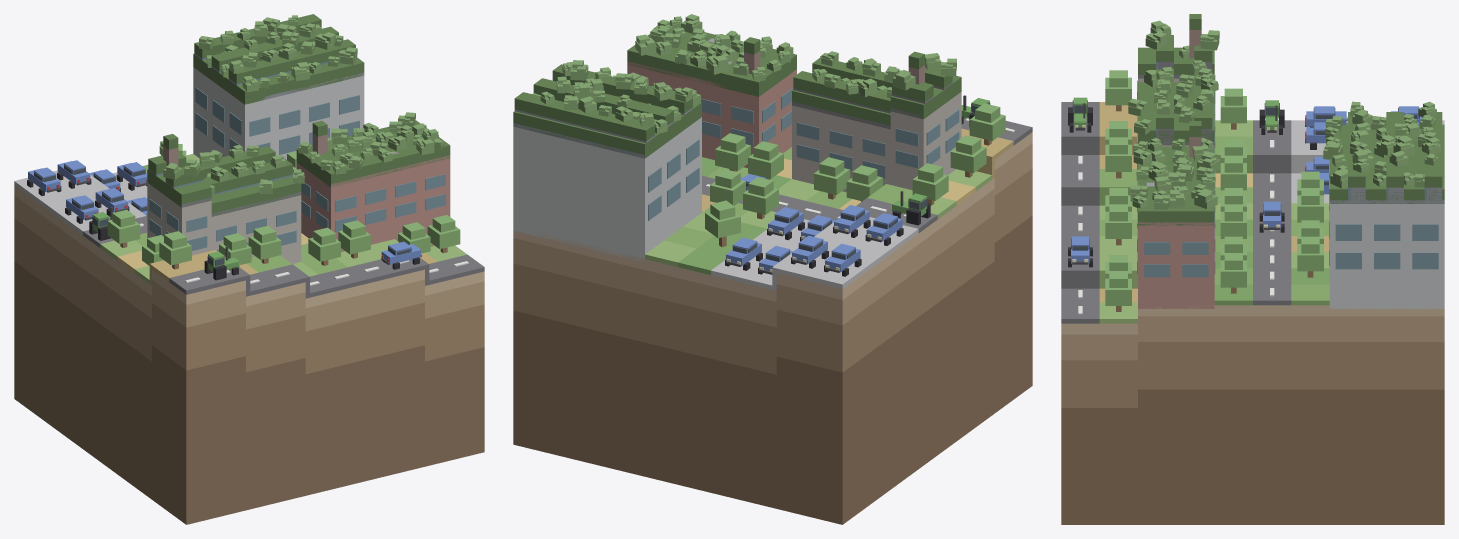
Rendered from block_13_greenroof_45.glb.
3 views of the same model, side by side, from view 1: azimuth 30°, elevation 25°; view 2: azimuth 150°, elevation 25°; view 3: azimuth 270°, elevation 25° (orthographic). The views are drawn at different scales.
Parts seen in each view (by area): view 1: Patch_LowerLeft_b13_GR, Factories_LowerLeft_b13_GR, GR_Roof_Factories_LowerLeft_b13_GR, Roads_LowerLeft_b13_GR, Ground_LowerLeft_b13_GR, Parking_LowerLeft_b13_GR, Asset_Tree_Round.093_GR, Asset_Tree_Round.113_GR, Asset_Tree_Round.114_GR, Asset_Tree_Round.117_GR, Asset_Tree_Round.111_GR, Asset_Tree_Round.115_GR (+9 smaller); view 2: Patch_LowerLeft_b13_GR, Factories_LowerLeft_b13_GR, GR_Roof_Factories_LowerLeft_b13_GR, Ground_LowerLeft_b13_GR, Parking_LowerLeft_b13_GR, Roads_LowerLeft_b13_GR, Asset_Tree_Round.019_GR, Asset_Tree_Round.105_GR, Asset_Tree_Round.111_GR, Asset_Tree_Round.086_GR, Asset_Tree_Round.095_GR, Asset_Tree_Round.093_GR (+11 smaller); view 3: Patch_LowerLeft_b13_GR, Factories_LowerLeft_b13_GR, Roads_LowerLeft_b13_GR, GR_Roof_Factories_LowerLeft_b13_GR, Ground_LowerLeft_b13_GR, Parking_LowerLeft_b13_GR, Asset_Tree_Round.089_GR, Asset_Tree_Round.093_GR, Asset_Tree_Round.111_GR, Asset_Tree_Round.113_GR, Asset_Tree_Round.115_GR, Asset_Tree_Round.099_GR (+19 smaller).
Boxes of the visible parts, bbox=[...] form: Patch_LowerLeft_b13_GR: bbox=[14, 185, 484, 524]; Factories_LowerLeft_b13_GR: bbox=[147, 53, 450, 263]; GR_Roof_Factories_LowerLeft_b13_GR: bbox=[147, 14, 450, 216]; Roads_LowerLeft_b13_GR: bbox=[83, 216, 484, 298]; Ground_LowerLeft_b13_GR: bbox=[100, 154, 467, 285]; Parking_LowerLeft_b13_GR: bbox=[14, 170, 147, 235]; Asset_Tree_Round.093_GR: bbox=[107, 209, 140, 247]; Asset_Tree_Round.113_GR: bbox=[248, 225, 281, 263]; Asset_Tree_Round.114_GR: bbox=[308, 227, 340, 265]; Asset_Tree_Round.117_GR: bbox=[427, 215, 460, 253]; Asset_Tree_Round.111_GR: bbox=[159, 231, 191, 269]; Asset_Tree_Round.115_GR: bbox=[338, 220, 370, 258]; Patch_LowerLeft_b13_GR: bbox=[513, 132, 1032, 524]; Factories_LowerLeft_b13_GR: bbox=[513, 38, 961, 262]; GR_Roof_Factories_LowerLeft_b13_GR: bbox=[513, 29, 961, 158]; Ground_LowerLeft_b13_GR: bbox=[645, 128, 1013, 274]; Parking_LowerLeft_b13_GR: bbox=[711, 217, 918, 291]; Roads_LowerLeft_b13_GR: bbox=[702, 117, 1032, 232]; Asset_Tree_Round.019_GR: bbox=[705, 200, 740, 246]; Asset_Tree_Round.105_GR: bbox=[950, 135, 986, 177]; Asset_Tree_Round.111_GR: bbox=[969, 103, 1005, 145]; Asset_Tree_Round.086_GR: bbox=[743, 177, 778, 219]; Asset_Tree_Round.095_GR: bbox=[814, 157, 849, 199]; Asset_Tree_Round.093_GR: bbox=[912, 163, 948, 205]; Patch_LowerLeft_b13_GR: bbox=[1061, 305, 1444, 524]; Factories_LowerLeft_b13_GR: bbox=[1137, 30, 1444, 308]; Roads_LowerLeft_b13_GR: bbox=[1061, 102, 1291, 323]; GR_Roof_Factories_LowerLeft_b13_GR: bbox=[1138, 14, 1444, 225]; Ground_LowerLeft_b13_GR: bbox=[1099, 102, 1329, 323]; Parking_LowerLeft_b13_GR: bbox=[1291, 120, 1444, 203]; Asset_Tree_Round.089_GR: bbox=[1297, 236, 1323, 277]; Asset_Tree_Round.093_GR: bbox=[1220, 88, 1246, 129]; Asset_Tree_Round.111_GR: bbox=[1105, 70, 1131, 111]; Asset_Tree_Round.113_GR: bbox=[1105, 137, 1131, 178]; Asset_Tree_Round.115_GR: bbox=[1105, 204, 1131, 245]; Asset_Tree_Round.099_GR: bbox=[1220, 253, 1246, 293].
Size of the model in its own units: 9.52 by 10.13 by 9.5.
